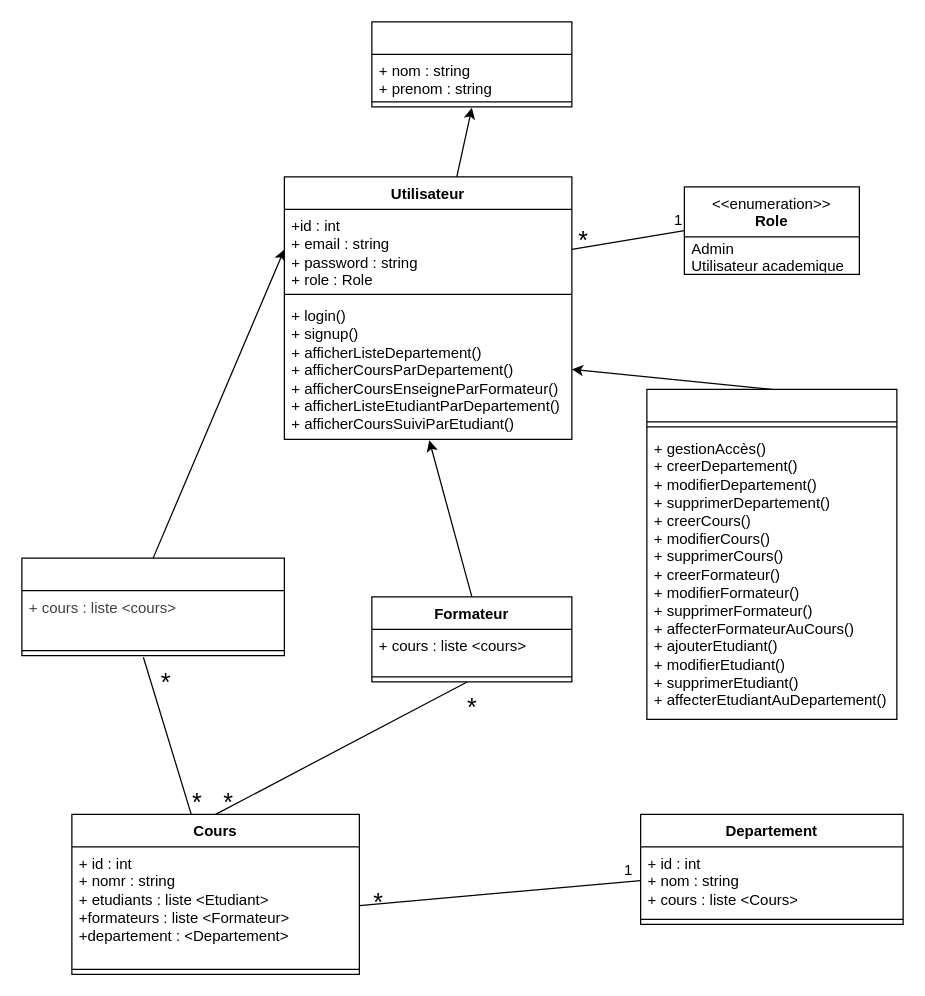
Image size: 925x996. Some labels were removed from this diagram. Each missing label, with the box of its shape:
Administrateur: (646, 388, 897, 719)
Etudiant: (21, 557, 284, 656)
Person: (371, 21, 572, 107)
